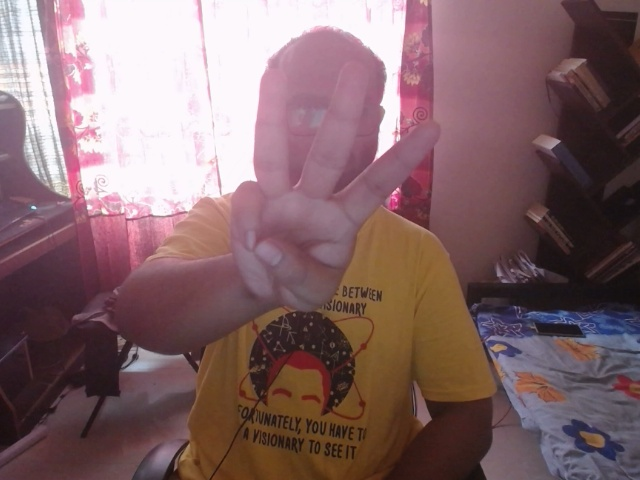three: (231, 48, 456, 233)
